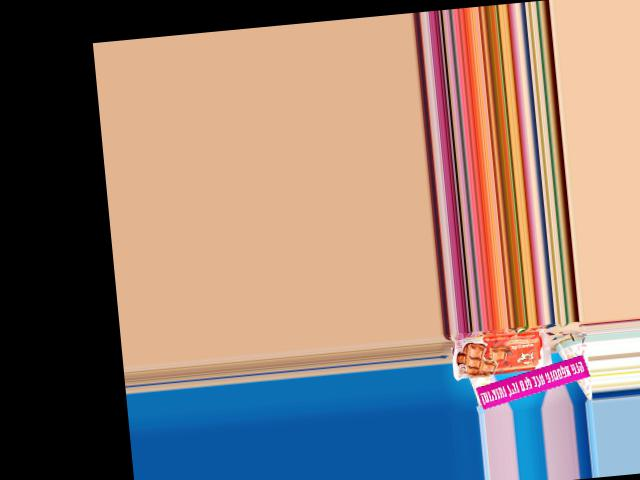chocolate: (447, 327, 555, 382)
